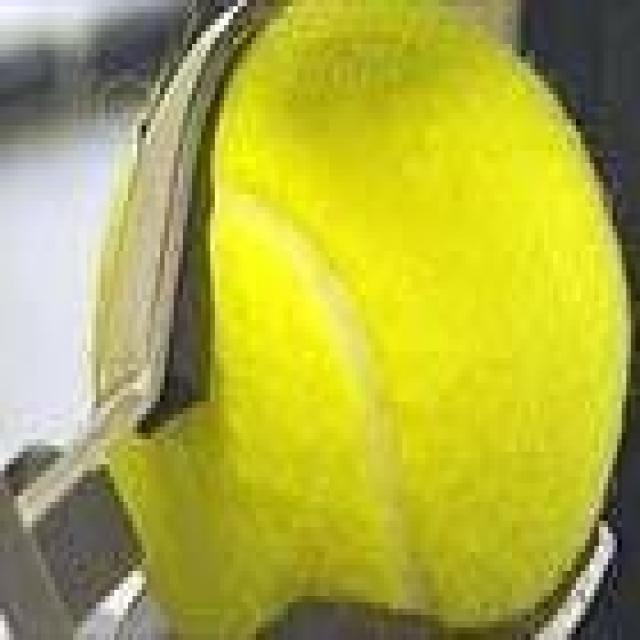Tennis Ball: (114, 0, 631, 640)
